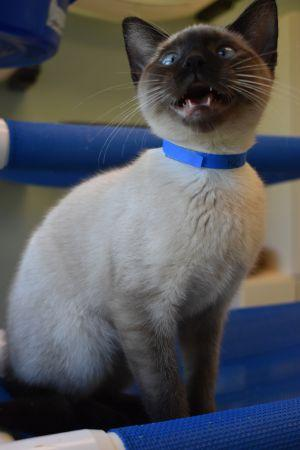siamese: (123, 1, 285, 157)
